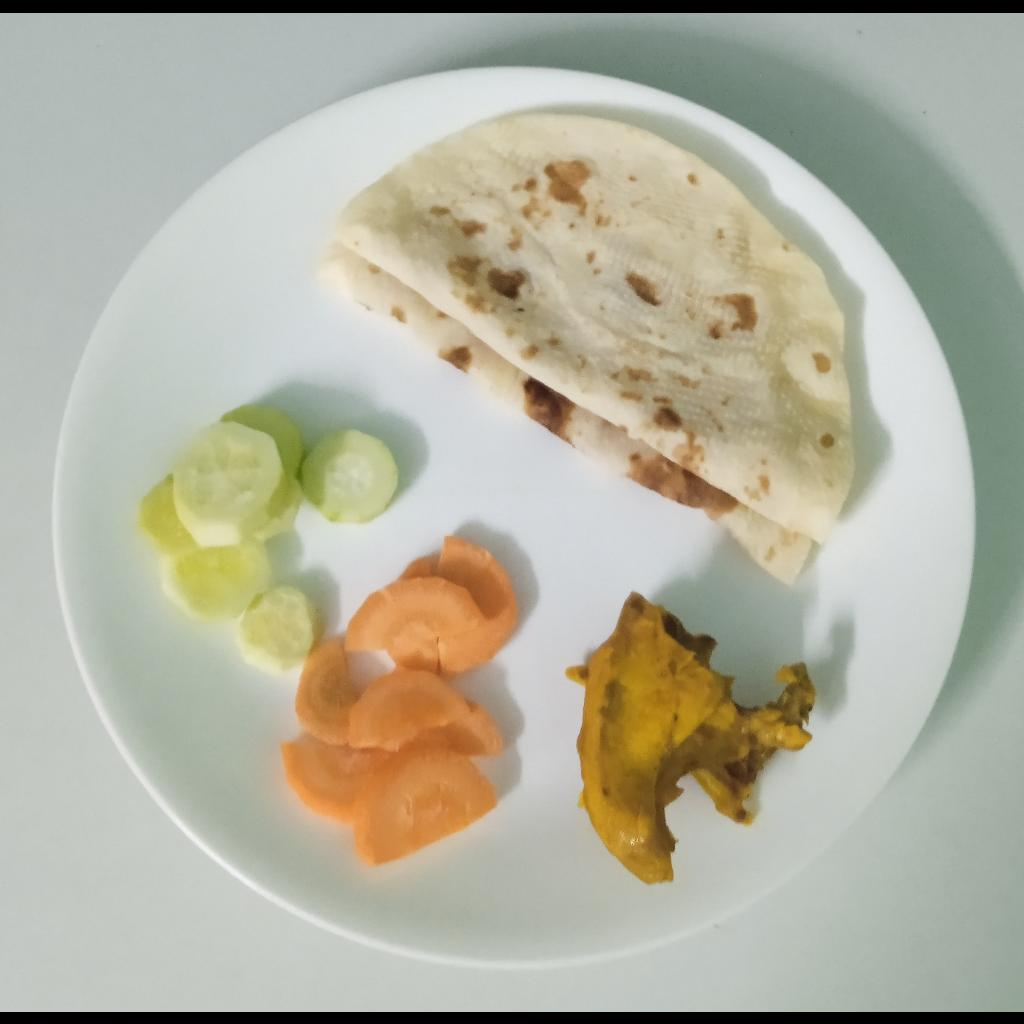carrot: (280, 533, 520, 872)
chicken: (558, 595, 819, 883)
cucumber: (138, 402, 401, 676)
ruti: (314, 107, 857, 596)
